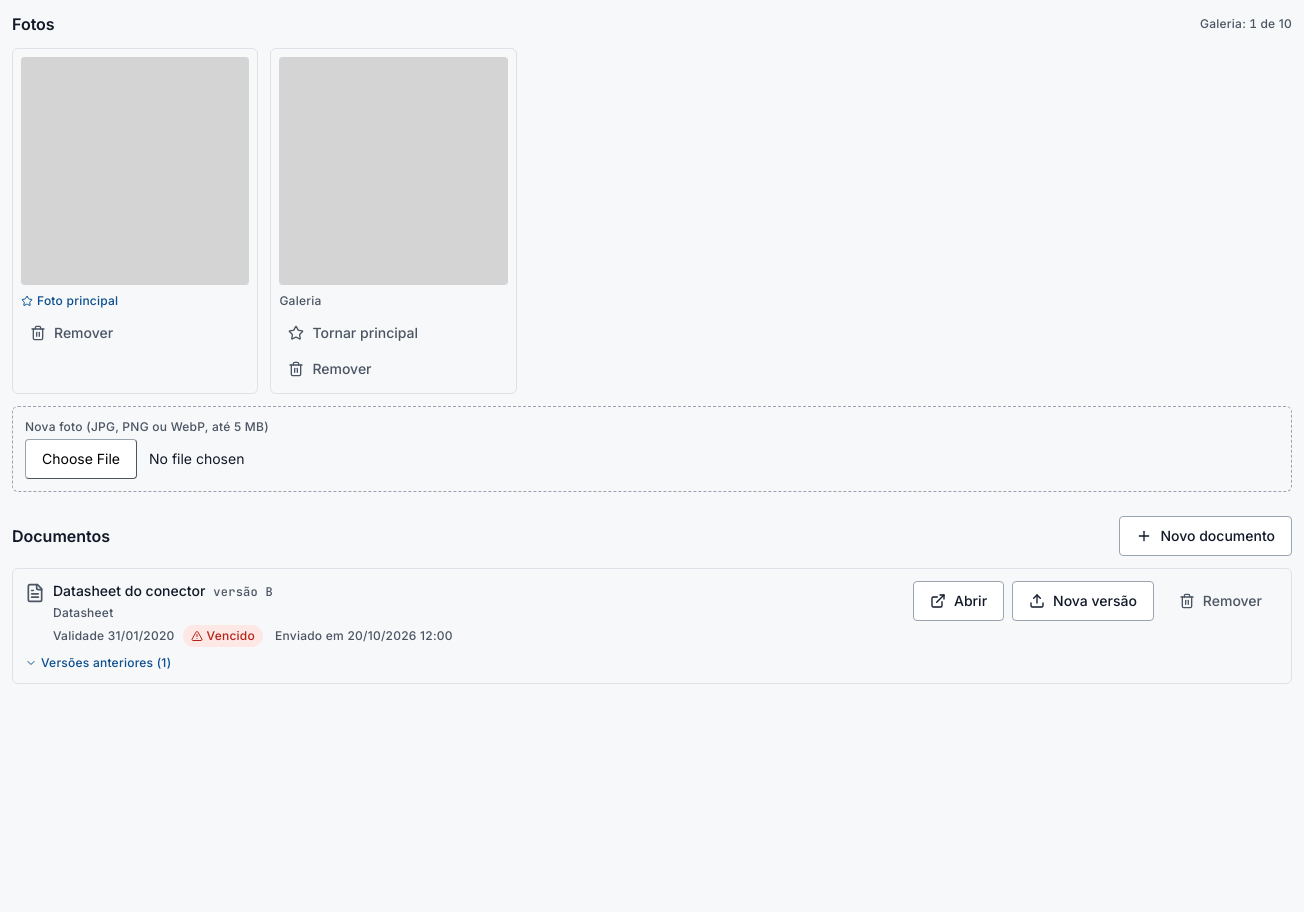
Test: MidiaDoRegistro › lista a foto principal, a galeria e o documento vigente com historico
The width and height of the screenshot is (1304, 912).
Expected: the text "Galeria: 1 de 10" is shown, 1200,16 -> 1292,32
Expected: the text "Datasheet do conector" is shown, 53,582 -> 205,599
Click the button "Versões anteriores (1)" at (98, 663), box 25,655 -> 171,671
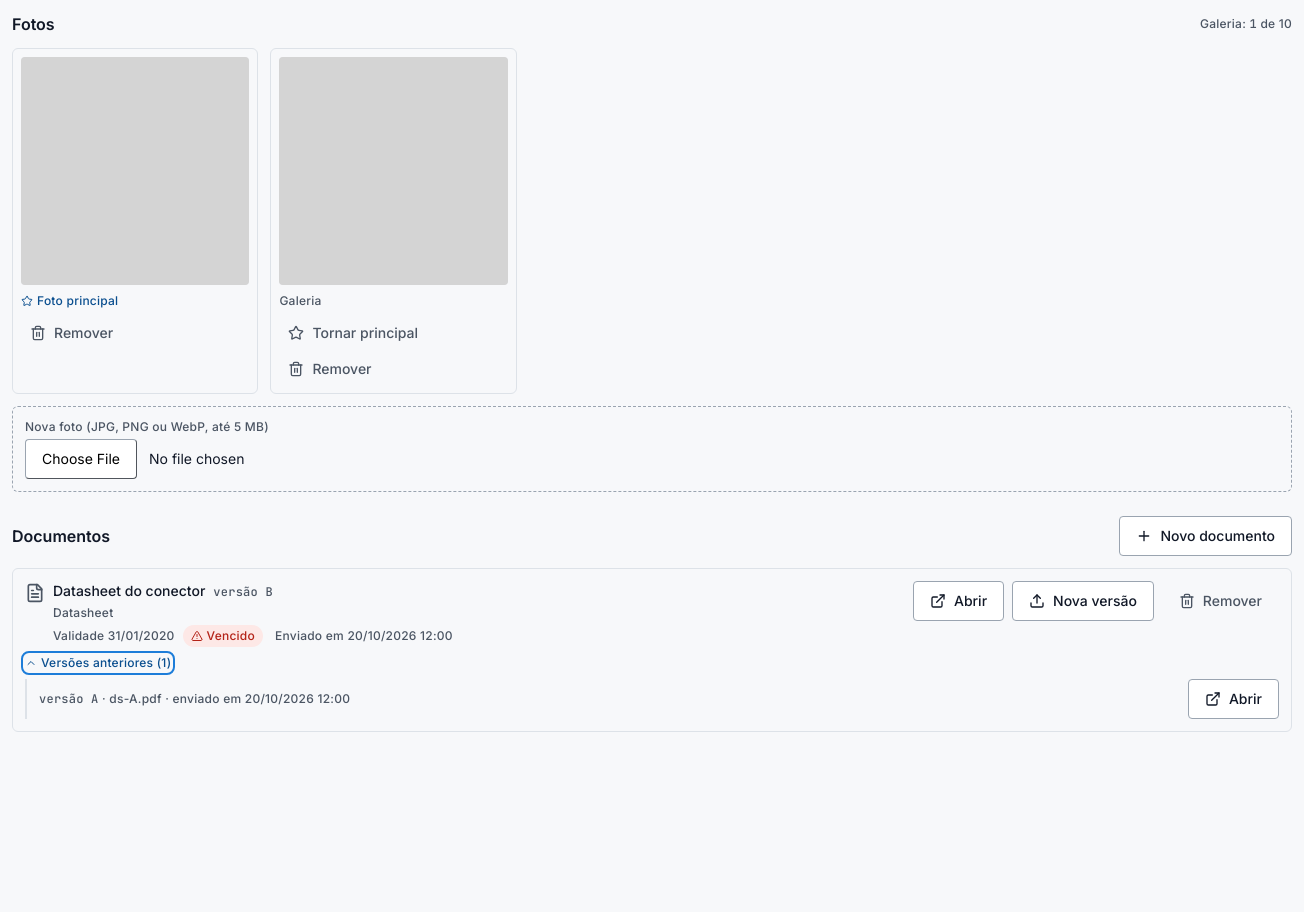
Now the button "Versões anteriores (1)" is expanded, box 25,655 -> 171,671
Now the text "versão A · ds-A.pdf · enviado em 20/10/2026 12:00" is shown, box 39,691 -> 350,707
